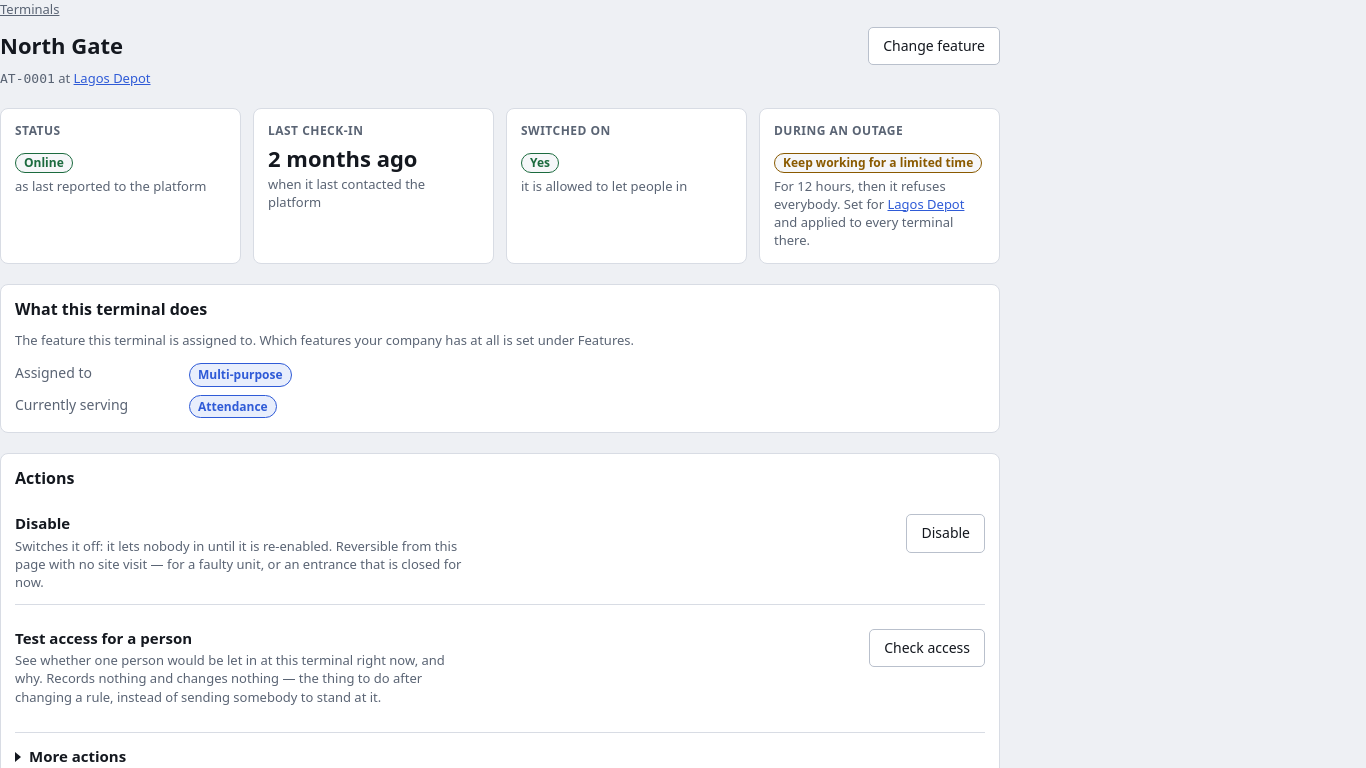
application mode › reports a refused capability without closing the dialog
Click the button "Change feature" at (934, 46), box [868,27,1000,65]
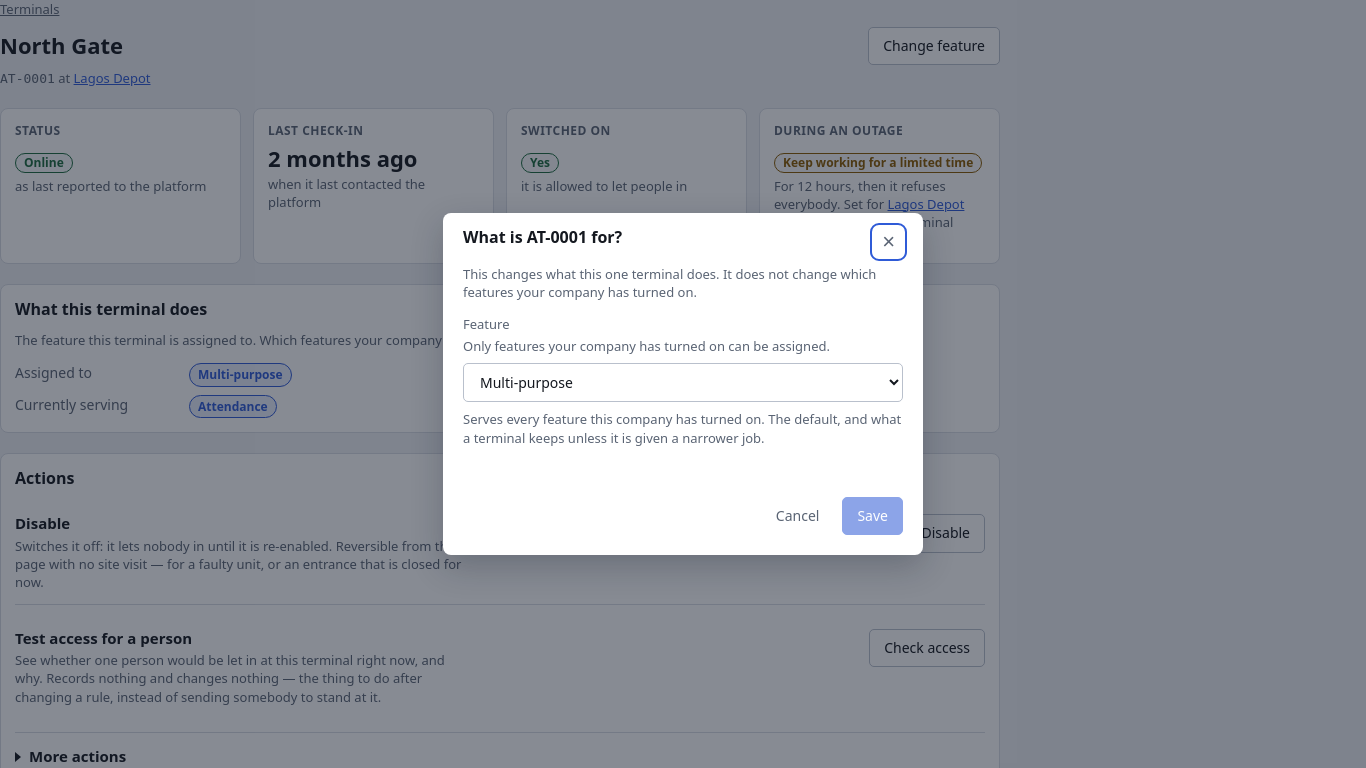
Select "Attendance" in the dropdown labelled "Feature" at (683, 383), box [463,363,903,402]
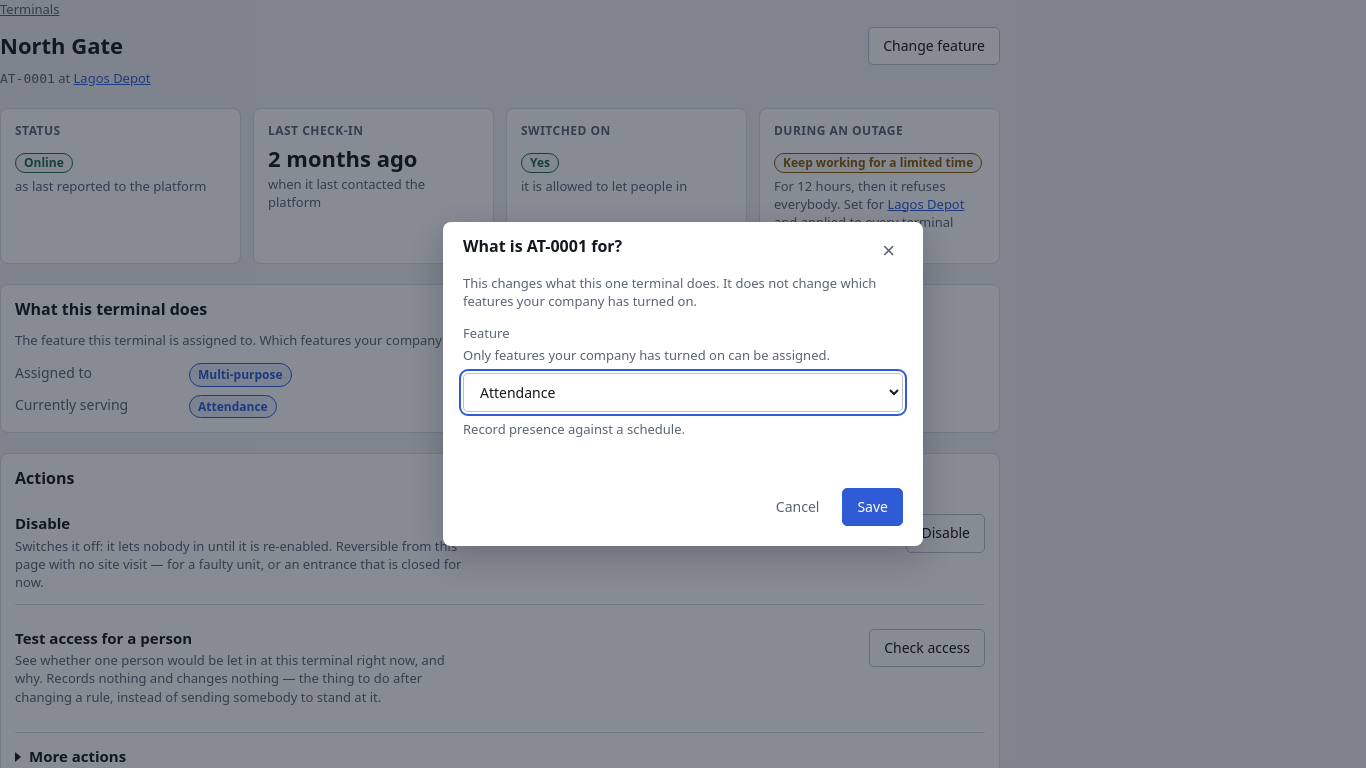
Click the button "Save" at (873, 507), box [842,488,903,526]
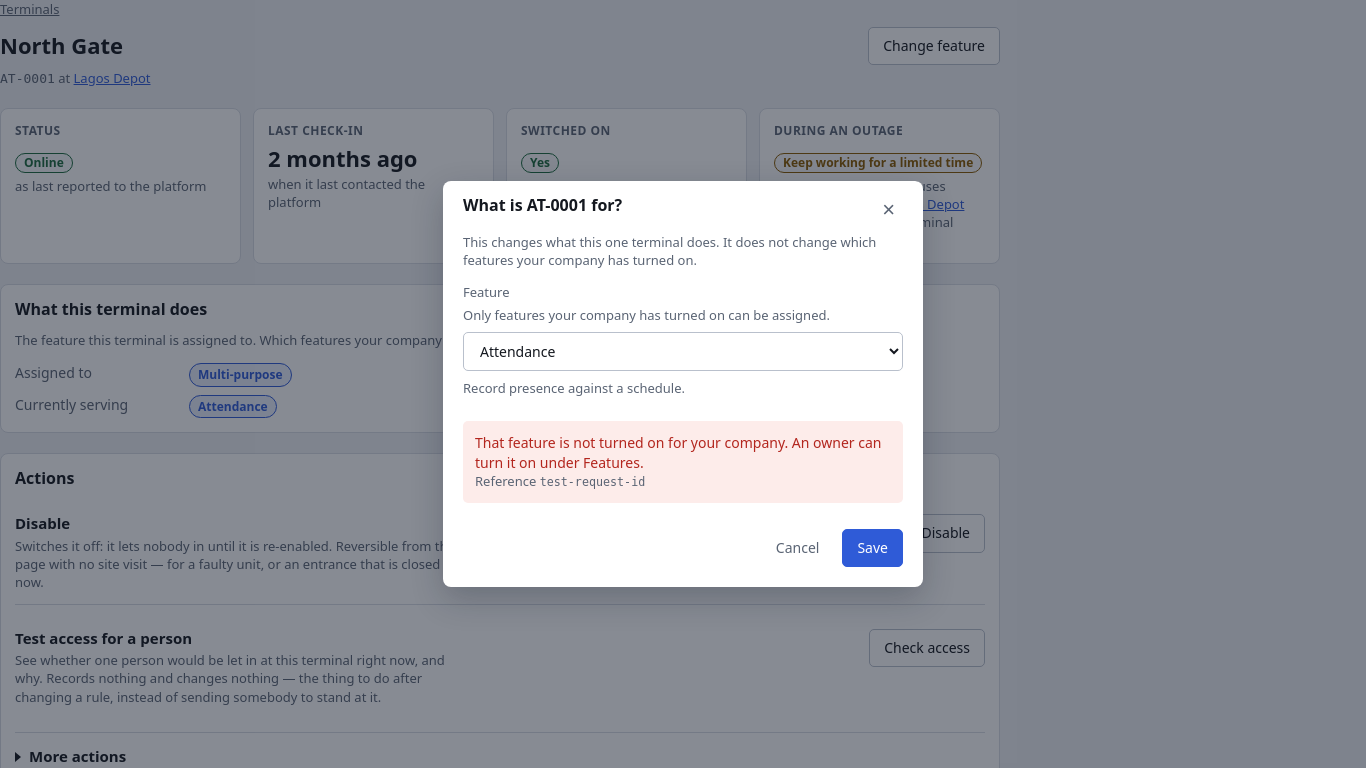
Expected: the dialog is shown, [443,181,923,587]
Expected: the message shows "not turned on for your company", [475,433,882,472]
